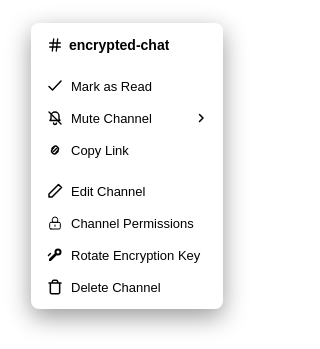
ChannelContextMenu — Rotate Encryption Key › shows rate limit message on 429
Step 1. Click the button "Rotate Encryption Key" → x=127, y=255, box [37,239,217,271]
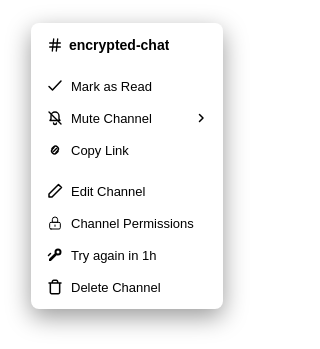
Result: the text "Try again in 1h" is shown at [71,248,156,262]
